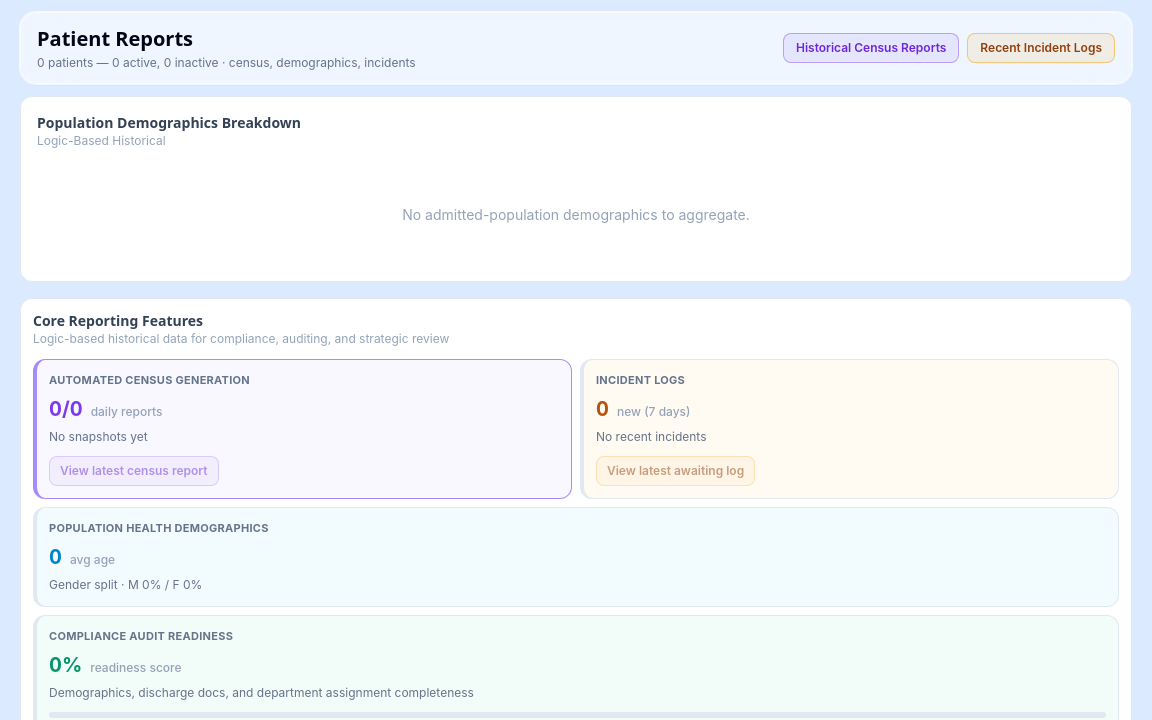
Test: PatientReports dialogs › renders an empty reports state when nested report config is missing
The width and height of the screenshot is (1152, 720).
Expected: the heading "Patient Reports" is shown, left=37, top=25, right=193, bottom=52
Click the button "Historical Census Reports" at coordinates (871, 48), box left=783, top=33, right=959, bottom=63
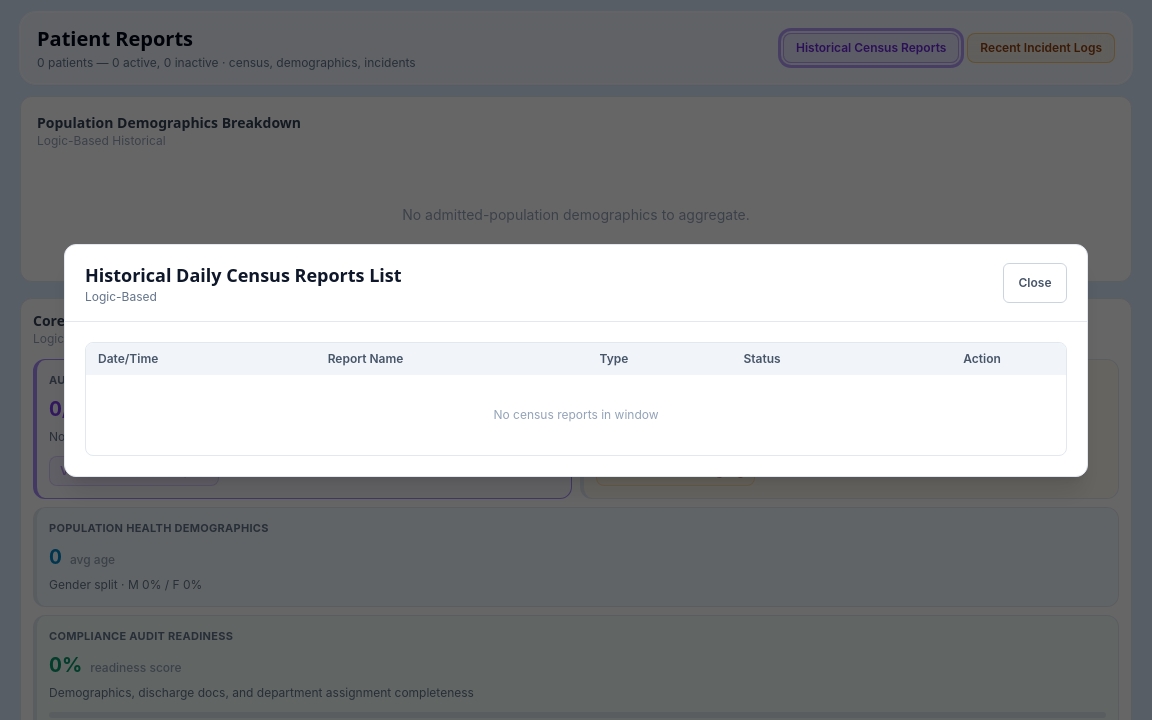
Expected: the text "No census reports in window" is shown, left=86, top=374, right=1066, bottom=454
